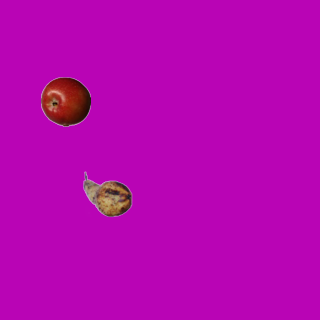Apple Braeburn: (40, 76, 90, 126)
Pear Abate: (82, 169, 132, 219)
